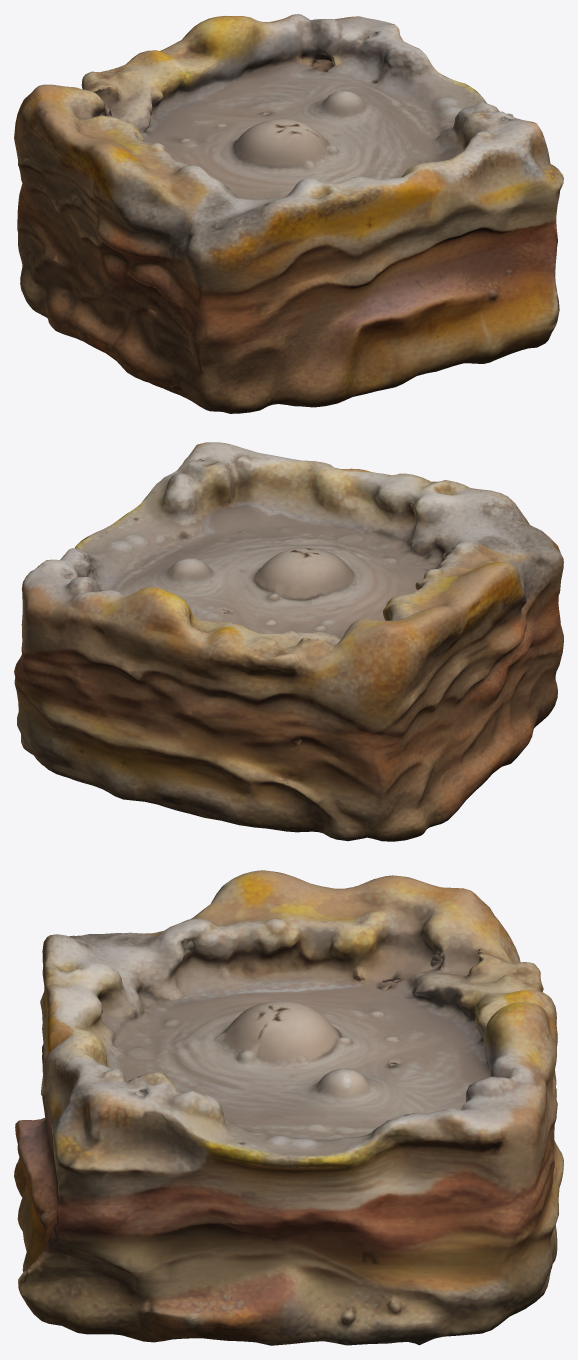
3 views of the same model, one above another, from view 1: azimuth 30°, elevation 25°; view 2: azimuth 150°, elevation 25°; view 3: azimuth 270°, elevation 25° (orthographic). The views are drawn at different scales.
Parts seen in each view (by area): view 1: geometry_0; view 2: geometry_0; view 3: geometry_0.
Boxes of the visible parts, x1=… form: geometry_0: x1=14, y1=14, x2=563, y2=413; geometry_0: x1=14, y1=442, x2=563, y2=841; geometry_0: x1=14, y1=870, x2=563, y2=1345.
Size of the model in its own units: 3.2 by 1.68 by 3.15.
Materials: 1 (1 with a texture image).
